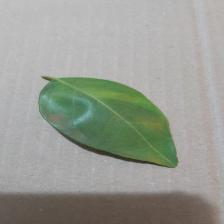greening: (32, 73, 188, 173)
